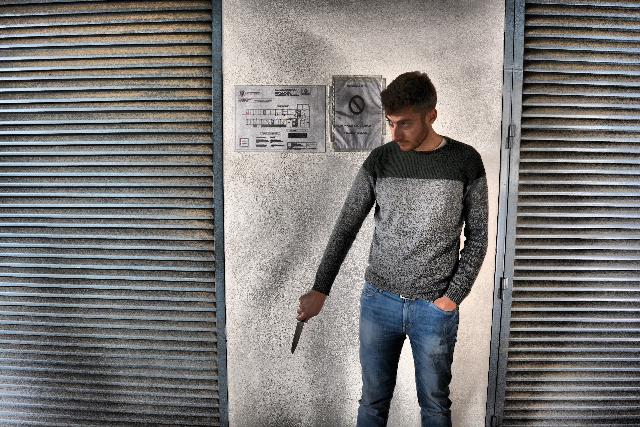knife: (288, 304, 312, 356)
